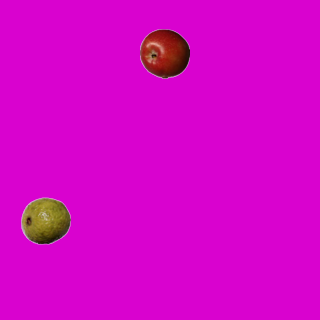Apple Braeburn: (139, 28, 189, 78)
Guava: (20, 195, 70, 245)
